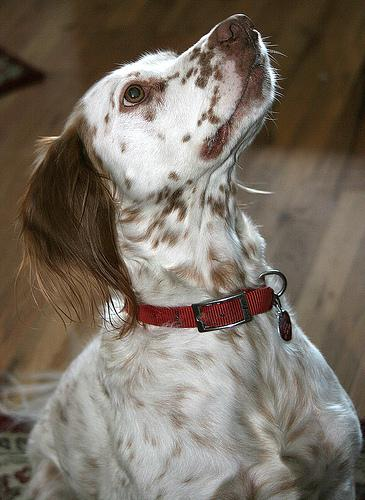dog-english_setter: (18, 12, 274, 269)
